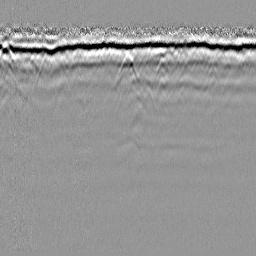cavity: (114, 51, 140, 88)
